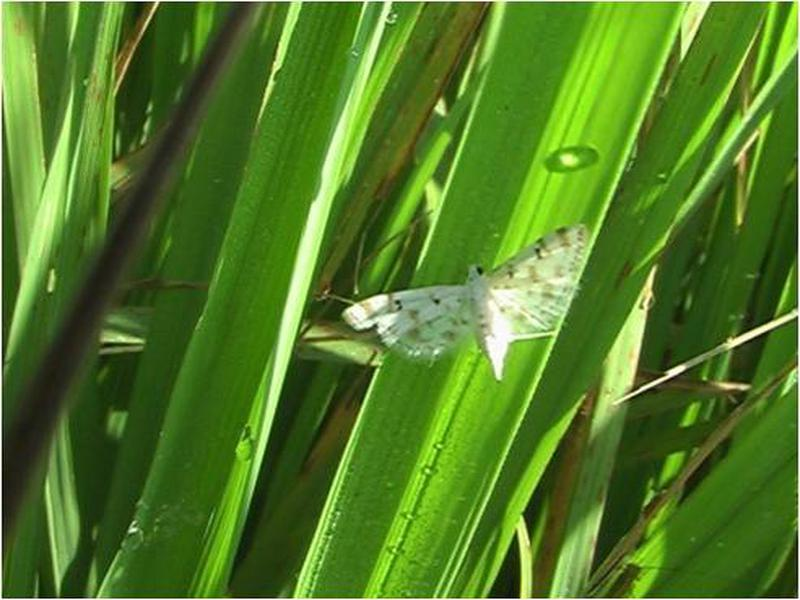Rice_case_worm: (288, 224, 610, 384)
